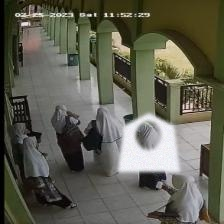Mukena: (117, 113, 180, 171)
